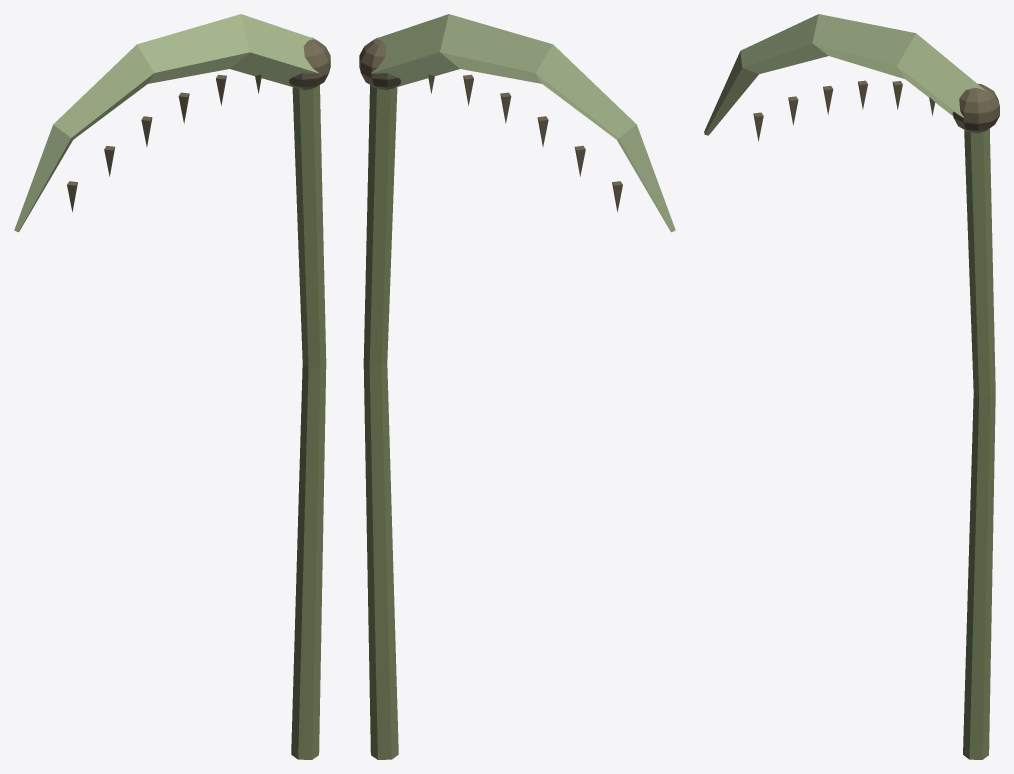
Rendered from MantisScythe.fbx.
3 views of the same model, side by side, from view 1: azimuth 30°, elevation 25°; view 2: azimuth 150°, elevation 25°; view 3: azimuth 330°, elevation 25° (orthographic). The views are drawn at different scales.
Visible parts, largest first — view 1: Prop_MantisScythe; view 2: Prop_MantisScythe; view 3: Prop_MantisScythe.
Boxes of the visible parts, box(x1,y1,x2,y2) form: Prop_MantisScythe: box(14, 14, 330, 759); Prop_MantisScythe: box(359, 14, 675, 759); Prop_MantisScythe: box(704, 14, 999, 759).
Size of the model in its own units: 0.6716 by 1.55 by 0.11.
